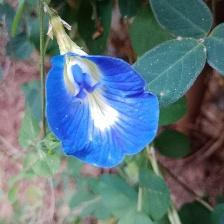shankupushpam: (42, 2, 162, 171)
